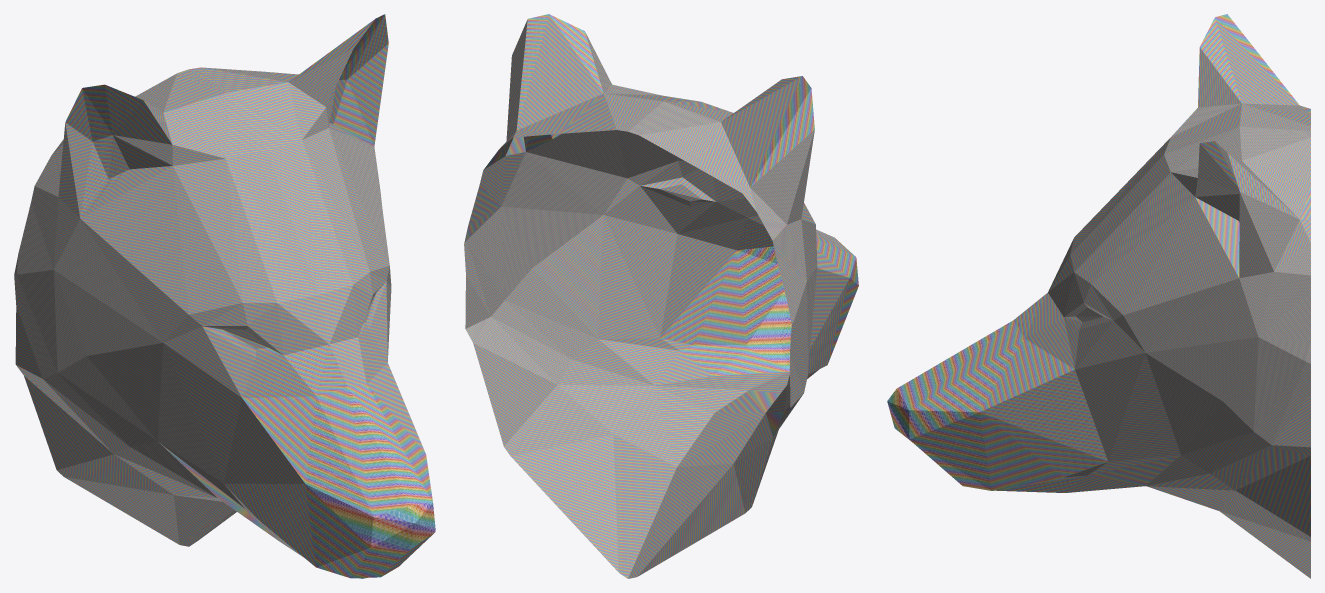
Rendered from wolf_head.obj.
3 renders of one model, left to right at view 1: azimuth 30°, elevation 25°; view 2: azimuth 150°, elevation 25°; view 3: azimuth 270°, elevation 25°, orthographic. The views are drawn at different scales.
Bounding box in the file's own units: 128 × 186 × 143.
Materials: 1 (1 with a texture image).
